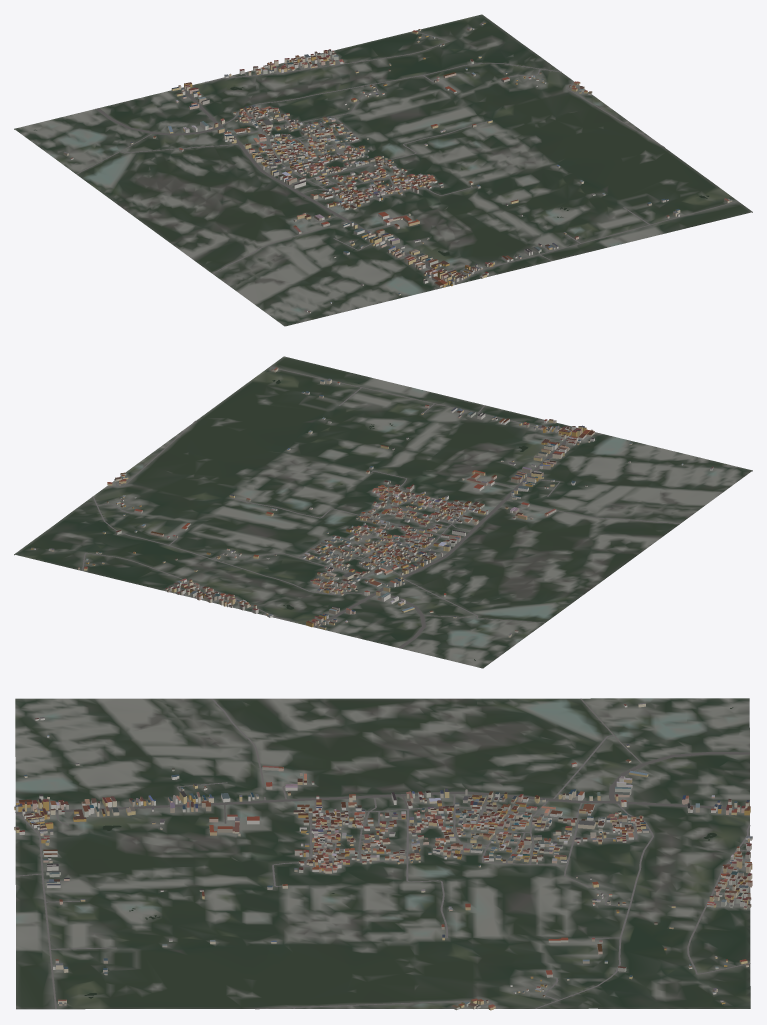
The picture shows the model from 3 angles, top to bottom: view 1: azimuth 30°, elevation 25°; view 2: azimuth 150°, elevation 25°; view 3: azimuth 270°, elevation 25°; orthographic projection. The views are drawn at different scales.
Visible parts, largest first — view 1: ground, buildings, roads; view 2: ground, buildings, roads; view 3: ground, buildings, roads.
Boxes of the visible parts, x1,y1,x2,y2 form: ground: (14,14,752,326); buildings: (63,22,732,313); roads: (76,32,738,284); ground: (14,356,752,668); buildings: (31,367,713,637); roads: (82,367,680,648); ground: (15,698,750,1009); buildings: (14,703,752,1010); roads: (15,698,750,1009).
Size of the model in its own units: 1410 by 22.11 by 1411.
